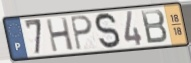4: (123, 9, 144, 49)
7: (23, 19, 44, 57)
B: (139, 8, 169, 45)
H: (45, 16, 76, 54)
P: (69, 14, 94, 52)
S: (94, 12, 122, 51)
